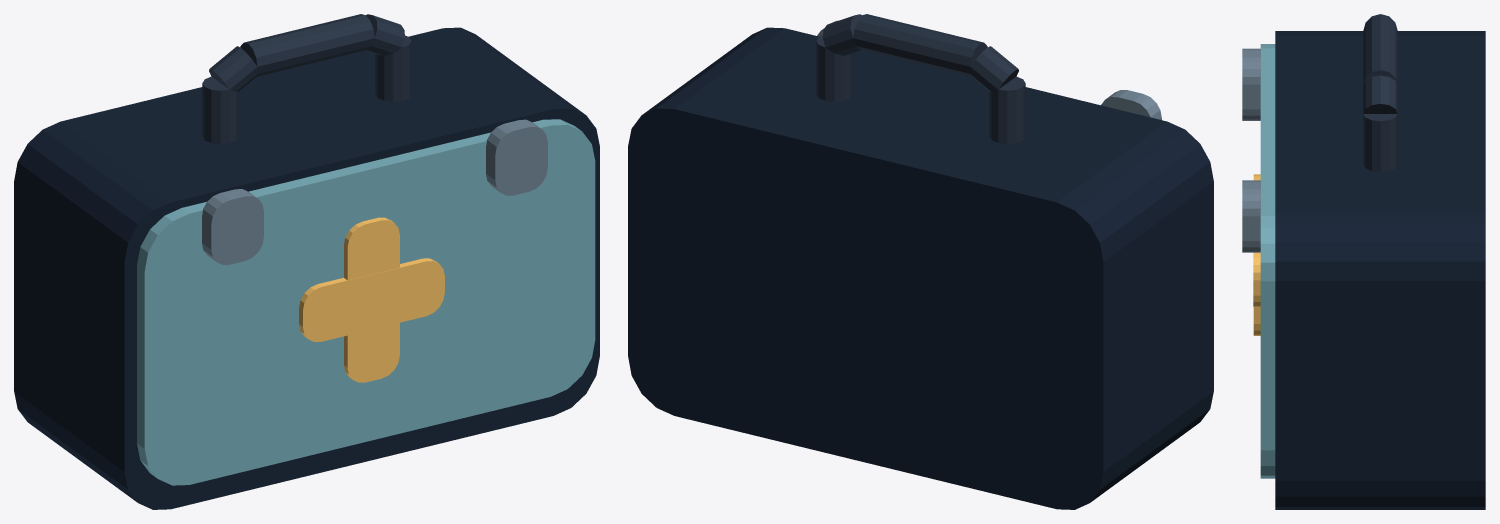
File: firstaid.glb
3 renders of one model, left to right at view 1: azimuth 30°, elevation 25°; view 2: azimuth 150°, elevation 25°; view 3: azimuth 270°, elevation 25°, orthographic. The views are drawn at different scales.
Visible parts, largest first — view 1: lid, case, cross horizontal, cross vertical, carry handle2, closure 0.46, closure -0.46, carry handle0, carry handle4, carry handle1, carry handle3; view 2: case, carry handle2, carry handle0, carry handle4, carry handle1, carry handle3, closure -0.46; view 3: case, lid, carry handle2, carry handle4, closure -0.46, closure 0.46, carry handle3, cross horizontal, cross vertical.
Part boxes in pixels (box(x1,y1,x2,y2)): lid: box(137, 119, 595, 485); case: box(14, 27, 599, 509); cross horizontal: box(299, 258, 444, 341); cross vertical: box(344, 217, 399, 382); carry handle2: box(240, 14, 374, 76); closure 0.46: box(486, 119, 547, 195); closure -0.46: box(202, 189, 263, 264); carry handle0: box(202, 76, 238, 143); carry handle4: box(375, 35, 411, 101); carry handle1: box(209, 46, 258, 91); carry handle3: box(366, 14, 404, 55); case: box(628, 27, 1213, 509); carry handle2: box(853, 14, 987, 76); carry handle0: box(989, 76, 1025, 143); carry handle4: box(816, 35, 852, 101); carry handle1: box(969, 46, 1018, 91); carry handle3: box(823, 14, 861, 55); closure -0.46: box(1101, 90, 1161, 119); case: box(1275, 31, 1485, 509); lid: box(1260, 44, 1275, 478); carry handle2: box(1363, 15, 1397, 84); carry handle4: box(1363, 114, 1397, 171); closure -0.46: box(1242, 48, 1260, 120); closure 0.46: box(1242, 180, 1260, 252); carry handle3: box(1363, 75, 1397, 113); cross horizontal: box(1253, 252, 1260, 307); cross vertical: box(1253, 174, 1260, 335).
Size of the model in its own units: 1.54 by 1.22 by 0.7175.
